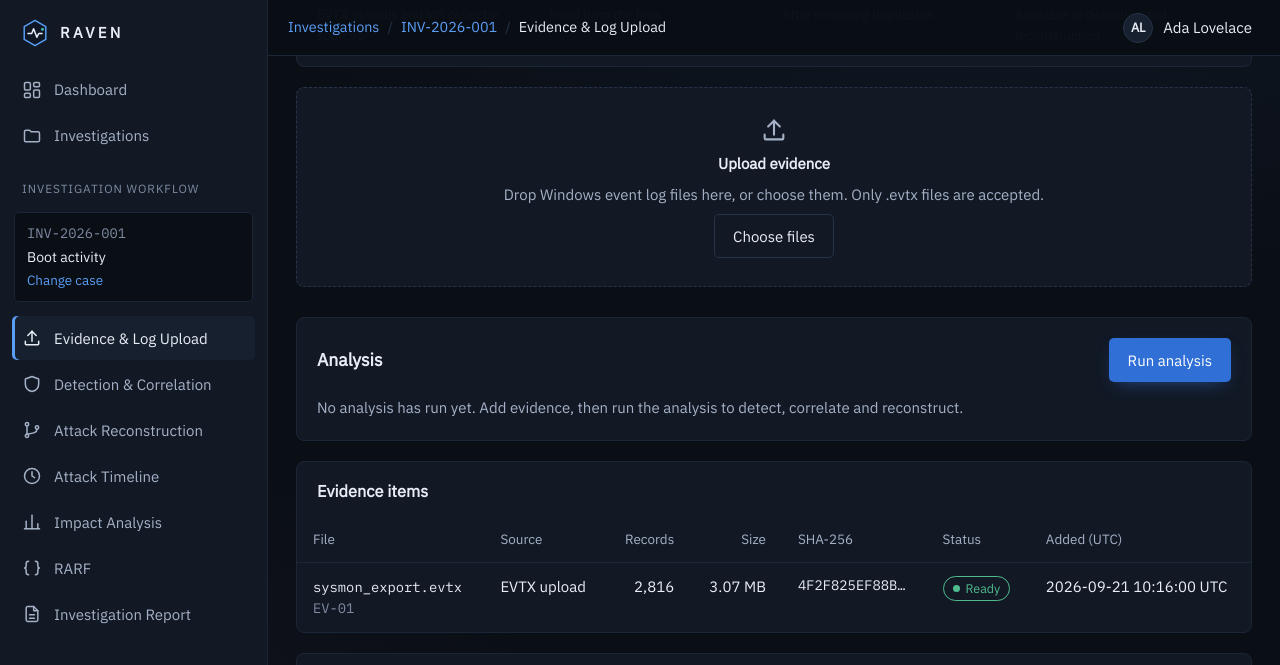
Test: Evidence: analysis › shows why a run could not be started
(page scrolled)
Expected: the table named "Evidence items of this investigation" is shown, [297, 517, 1251, 632]
Click the button "Run analysis" at (1170, 360), box [1109, 338, 1231, 382]
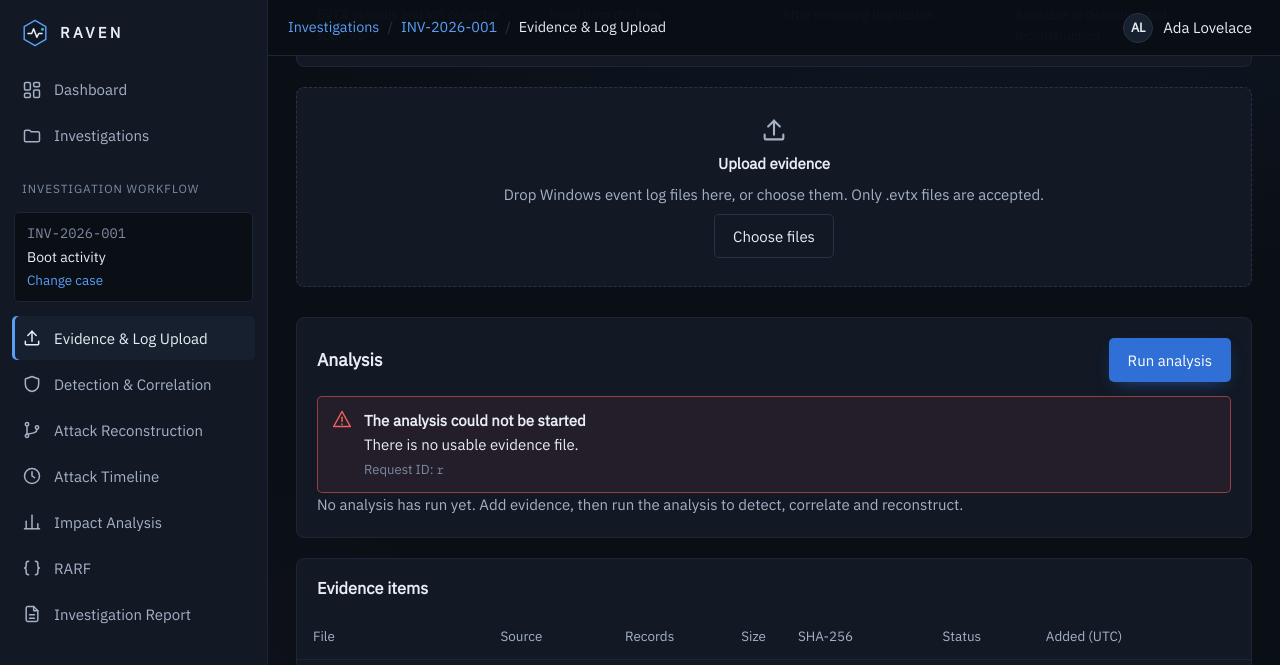
Now the message shows "There is no usable evidence file.", box [364, 435, 578, 454]
